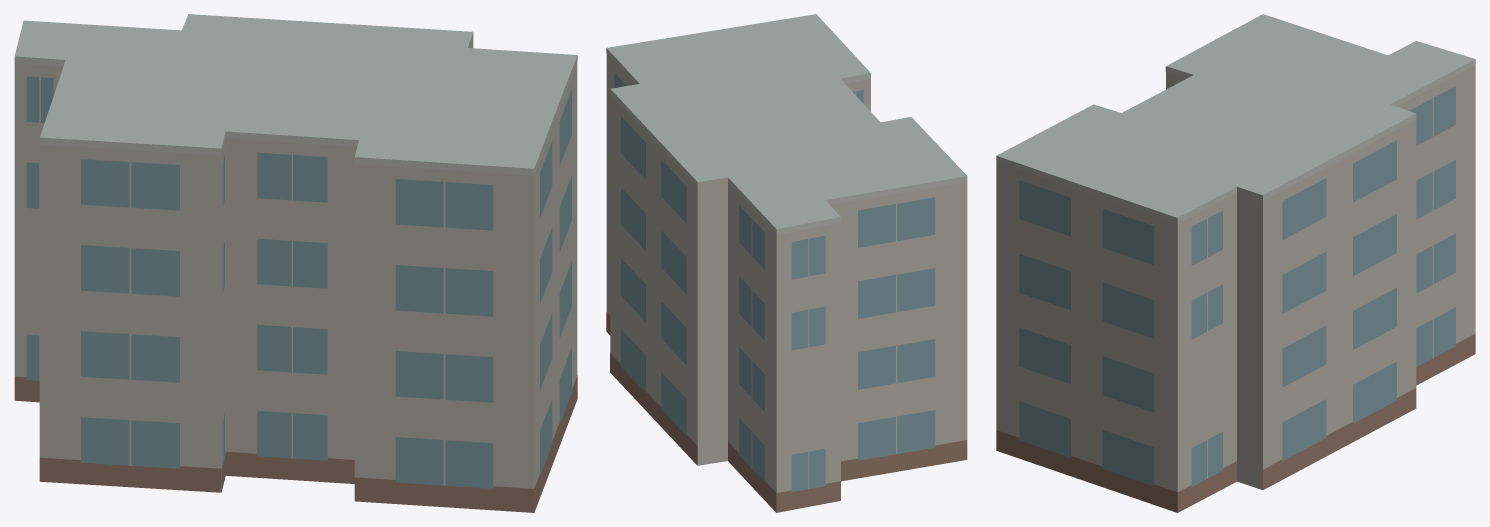
The model's file is survey-upis-32602306.glb.
3 views of the same model, side by side, from view 1: azimuth 30°, elevation 25°; view 2: azimuth 150°, elevation 25°; view 3: azimuth 270°, elevation 25° (orthographic). The views are drawn at different scales.
Visible parts, largest first — view 1: survey-upis-32602306.tmp; view 2: survey-upis-32602306.tmp; view 3: survey-upis-32602306.tmp.
Boxes of the visible parts, bbox=[...] form: survey-upis-32602306.tmp: bbox=[14, 14, 577, 512]; survey-upis-32602306.tmp: bbox=[606, 14, 967, 512]; survey-upis-32602306.tmp: bbox=[996, 14, 1475, 512].
Size of the model in its own units: 18.1 by 12.2 by 17.97.
